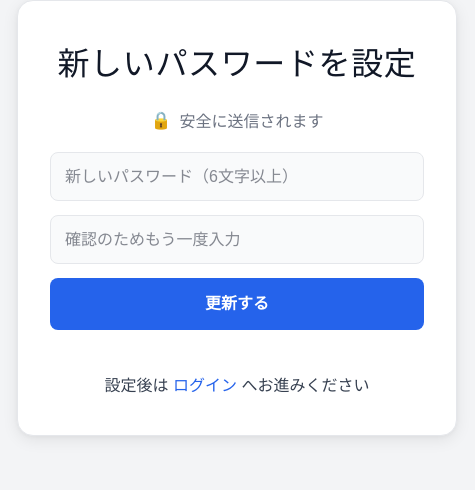
Scenario: ResetPasswordForm › 更新に成功すると、入力を空にして、ログイン画面へ移る
Expected: the button "更新する" is enabled, [50, 278, 424, 330]
In the password field labelled "新しいパスワード": (237, 176) [50, 152, 424, 201], type "abcdef"
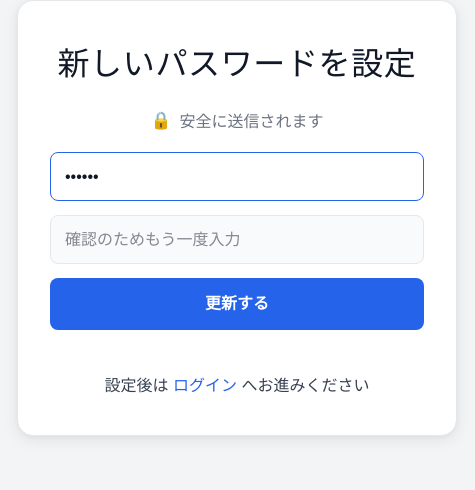
In the password field named "新しいパスワード（確認）": (237, 240) [50, 215, 424, 264], type "abcdef"
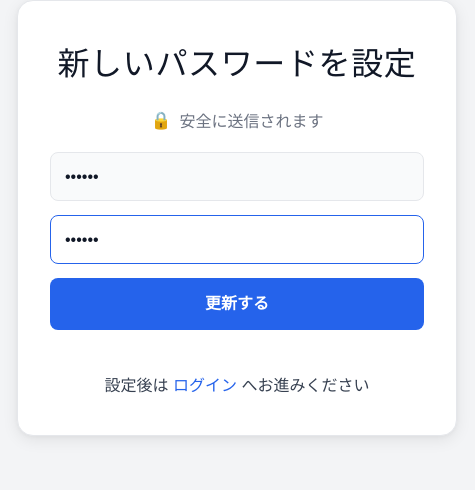
Click the button "更新する": (237, 304) [50, 278, 424, 330]
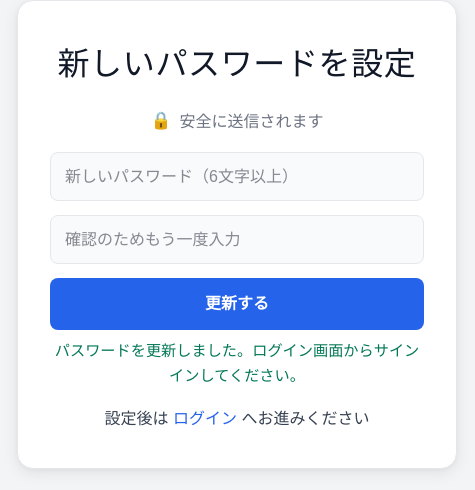
Expected: the text "パスワードを更新しました。ログイン画面からサインインしてください。" is shown, [50, 338, 424, 389]
Expected: the password field labelled "新しいパスワード" is empty, [50, 152, 424, 201]
Expected: the password field named "新しいパスワード（確認）" is empty, [50, 215, 424, 264]
